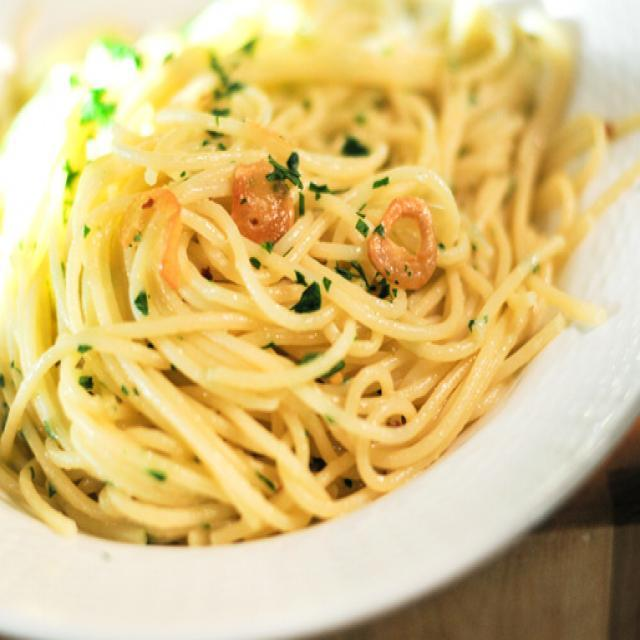Oil pasta: (16, 37, 570, 557)
